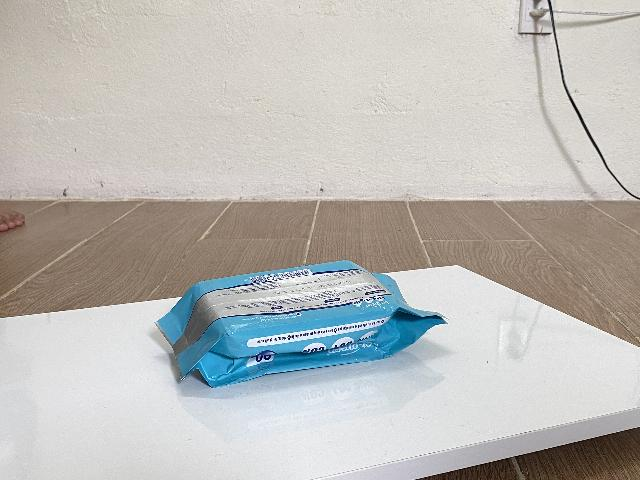Let-green_alcohol_wipes: (153, 261, 445, 390)
